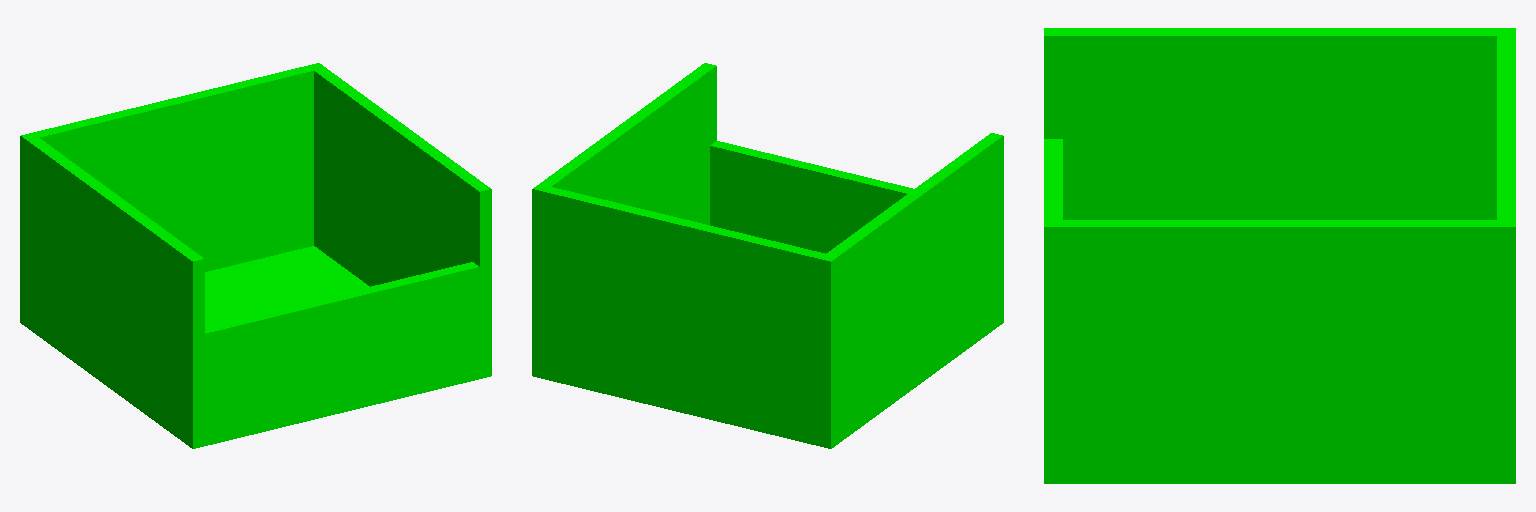
URDF robot description (green_box):
<robot
  name="green_box">
  <link
    name="green_box">
    <inertial>
      <origin
        xyz="-5.6784E-17 0.018088 0.10277"
        rpy="0 0 0" />
      <mass
        value="39.55" />
      <inertia
        ixx="1.5549"
        ixy="-1.5678E-16"
        ixz="3.8384E-17"
        iyy="1.6871"
        iyz="-0.098174"
        izz="2.5586" />
    </inertial>
    <visual>
      <origin
        xyz="0 0 0"
        rpy="0 0 0" />
      <geometry>
        <mesh
          filename="package://green_box/meshes/green_box.STL" />
      </geometry>
      <material
        name="">
        <color
          rgba="0 1 0 1" />
      </material>
    </visual>
    <collision>
      <origin
        xyz="0 0 0"
        rpy="0 0 0" />
      <geometry>
        <mesh
          filename="package://green_box/meshes/green_box.STL" />
      </geometry>
    </collision>
  </link>

<gazebo reference="green_box">
 		<kp>1000000.0</kp>
 		<kd>100.0</kd>
 		<material>Gazebo/Green</material>
 	</gazebo>
</robot>

--- Render facts (derived) ---
3 views of the same robot in one strip: view 1: azimuth 30°, elevation 25°; view 2: azimuth 150°, elevation 25°; view 3: azimuth 270°, elevation 25° (orthographic).
Model green_box with 1 links and 0 joints (none), rooted at green_box, posed all joints at 0.
Visible links, largest first — view 1: green_box; view 2: green_box; view 3: green_box.
Boxes of the visible links, x1,y1,x2,y2 form: green_box: [20, 63, 491, 448]; green_box: [532, 63, 1003, 448]; green_box: [1044, 28, 1515, 483].
Size in the robot's own frame: 0.5 by 0.5 by 0.3 metres.
1 mesh visuals loaded from 1 distinct referenced files (1 binary STL).